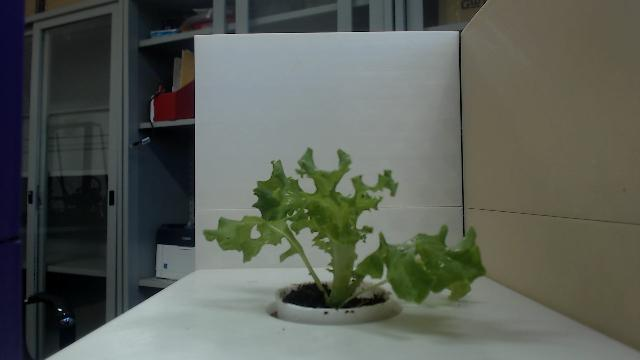Vegetative Stage: (202, 146, 488, 308)
